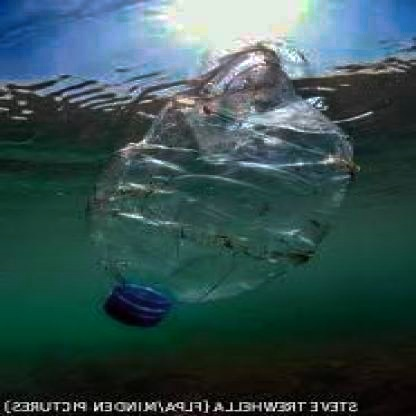pbottle: (58, 45, 365, 336)
